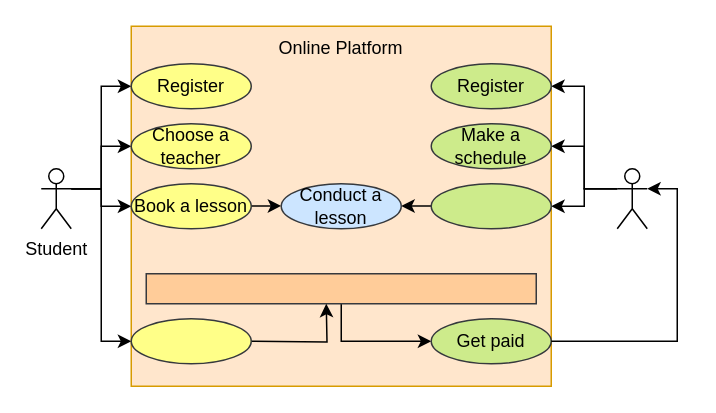
The diagram is 716 pixels wide and 413 high, and some of its shapes have lost their labels. The shapes that lost their labels are listed below. From the top down, each one's centre as x and y in pixels, then its label:
pixel 490 205: Confirm a lesson
pixel 631 198: Teacher
pixel 340 288: Payment System
pixel 190 340: Pay a lesson
